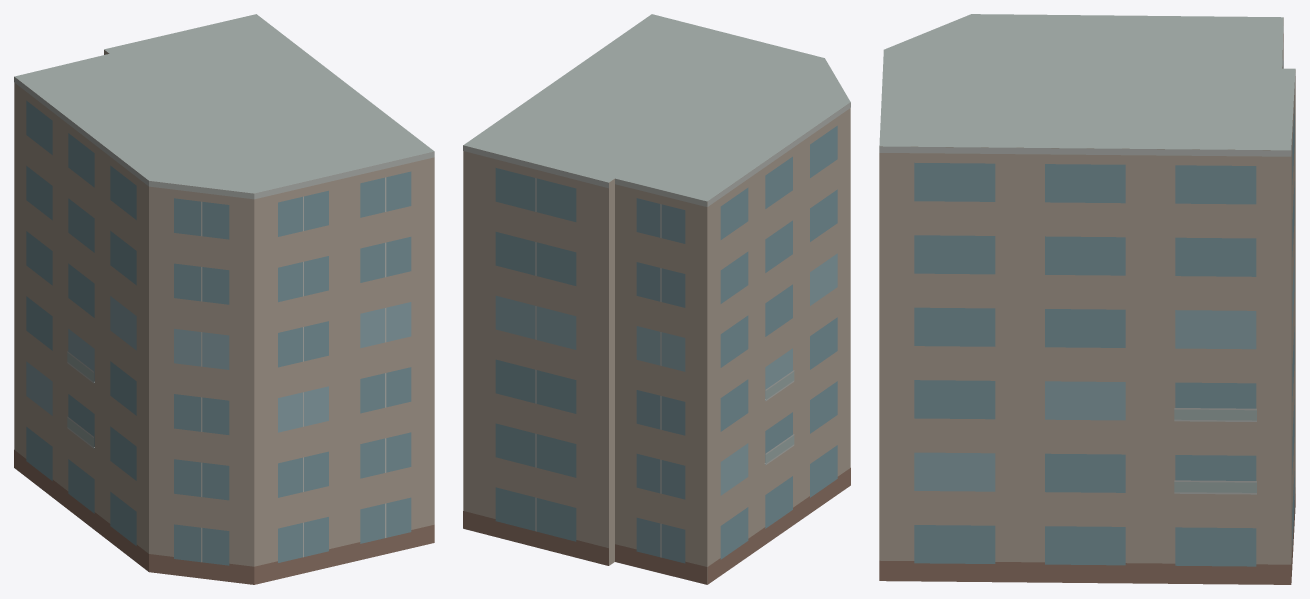
The model's file is survey-upis-33044509.glb.
3 views of the same model, side by side, from view 1: azimuth 30°, elevation 25°; view 2: azimuth 150°, elevation 25°; view 3: azimuth 270°, elevation 25° (orthographic). The views are drawn at different scales.
Parts seen in each view (by area): view 1: survey-upis-33044509.tmp; view 2: survey-upis-33044509.tmp; view 3: survey-upis-33044509.tmp.
Boxes of the visible parts, x1,y1,x2,y2 form: survey-upis-33044509.tmp: (14, 14, 434, 584); survey-upis-33044509.tmp: (463, 14, 850, 584); survey-upis-33044509.tmp: (879, 14, 1295, 584).
Bounding box in the file's own units: 11.08 × 16.45 × 14.29.
